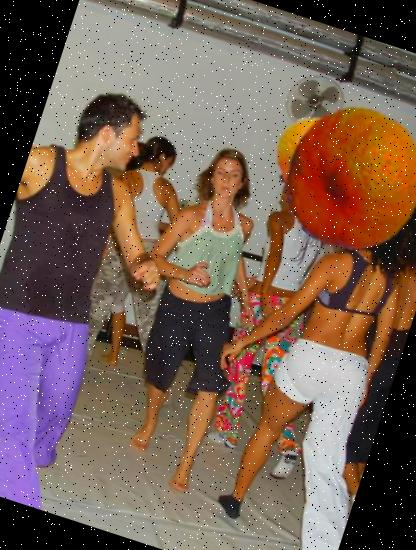Mandarine: (262, 88, 416, 271), (256, 101, 387, 232)
